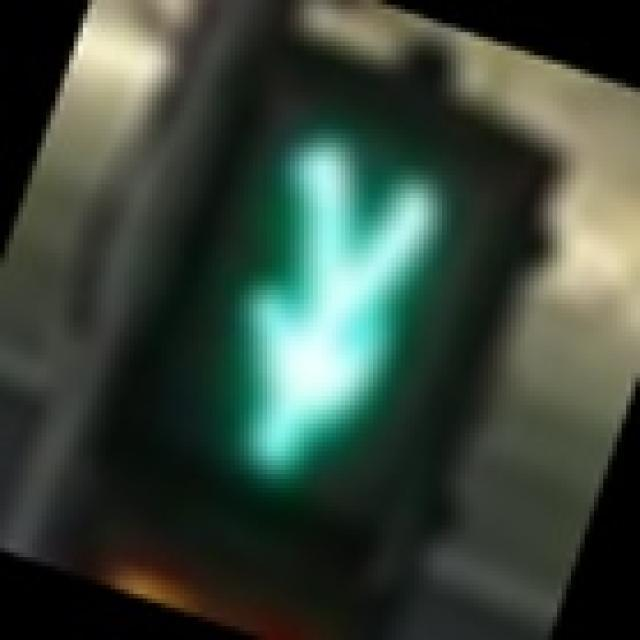green-light: (98, 61, 536, 568)
